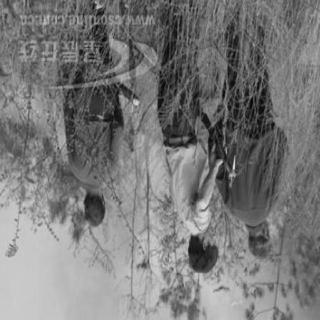Fire: (245, 212, 292, 260)
